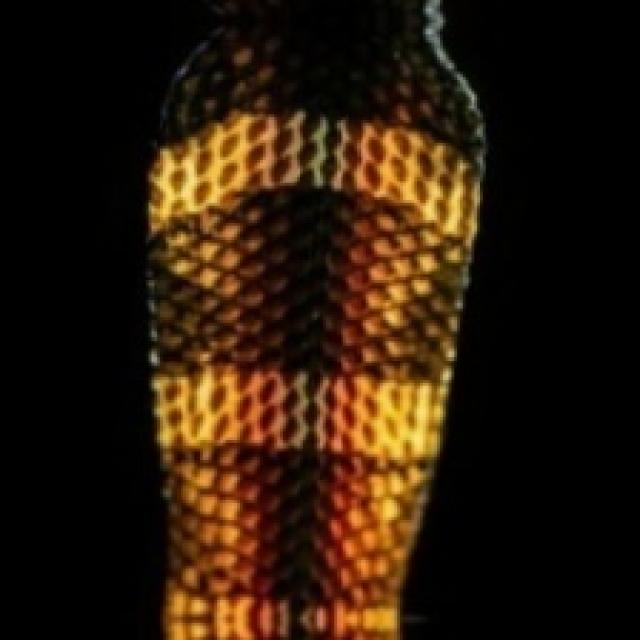king cobra: (149, 0, 480, 637)
